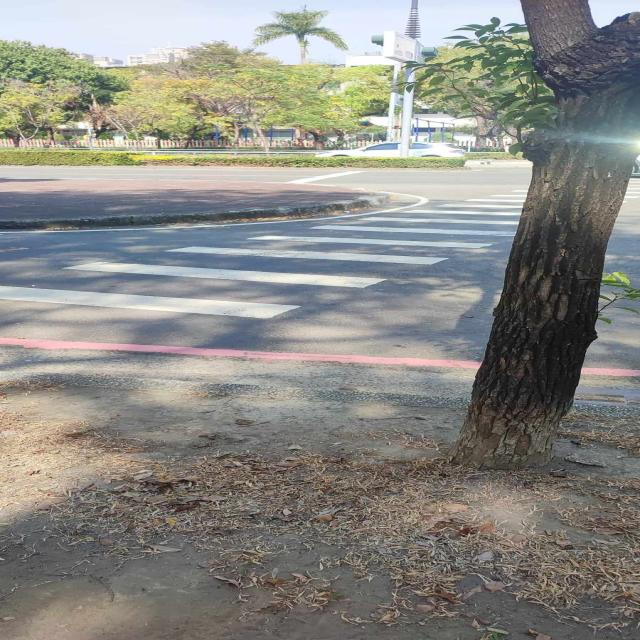zebra crossing: (0, 183, 534, 319), (624, 178, 640, 199)
